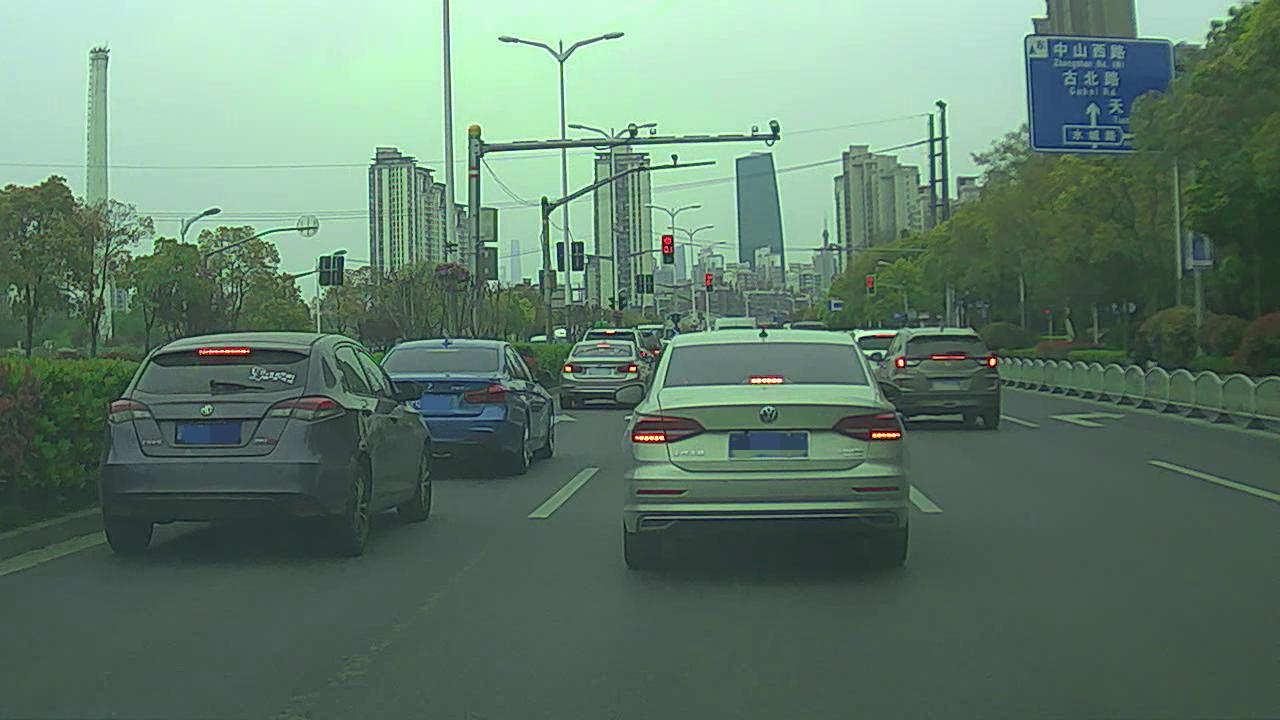traffic_light: (661, 232, 678, 266), (866, 274, 876, 296), (705, 272, 713, 291)
